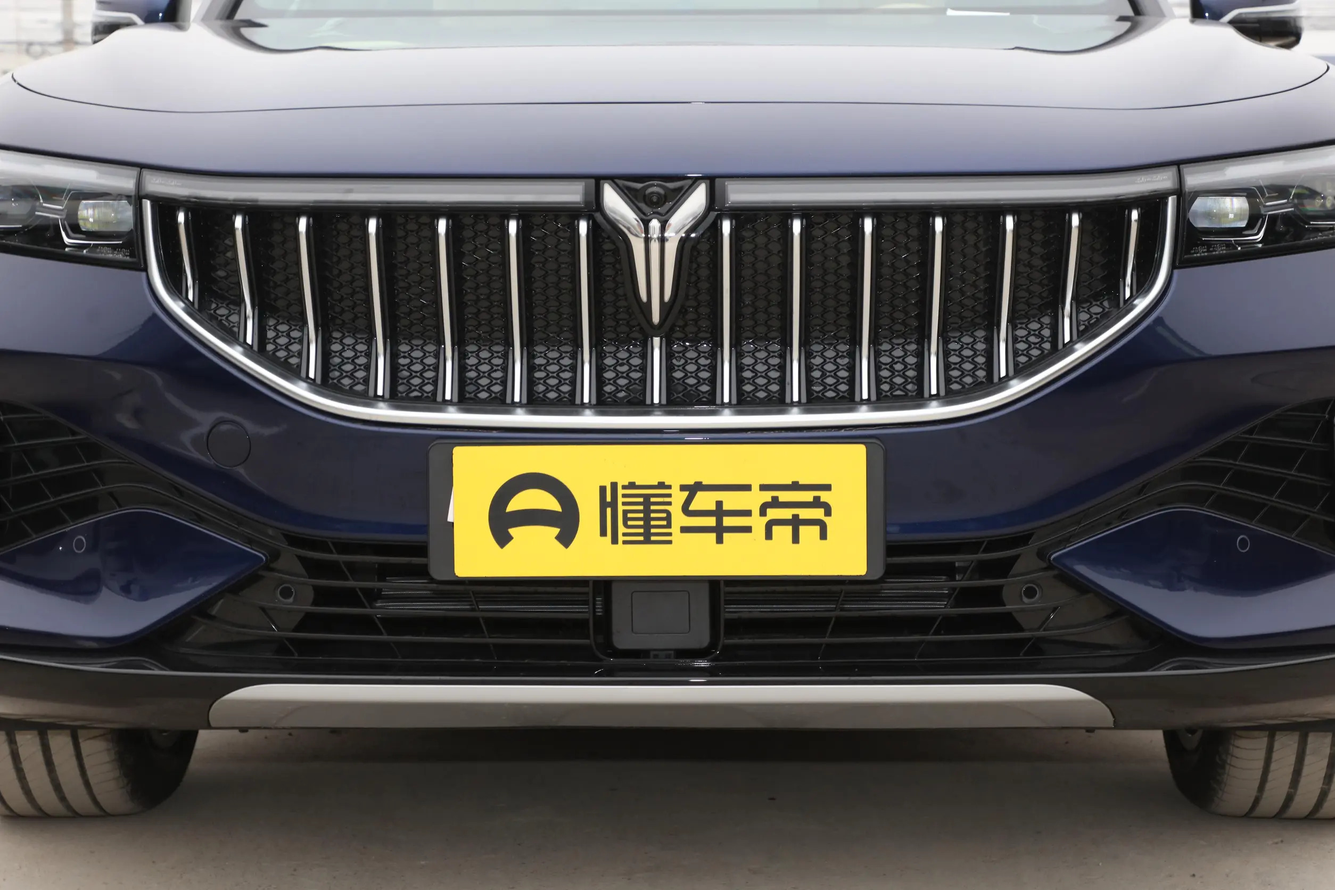VOYAH: (604, 181, 706, 321)
